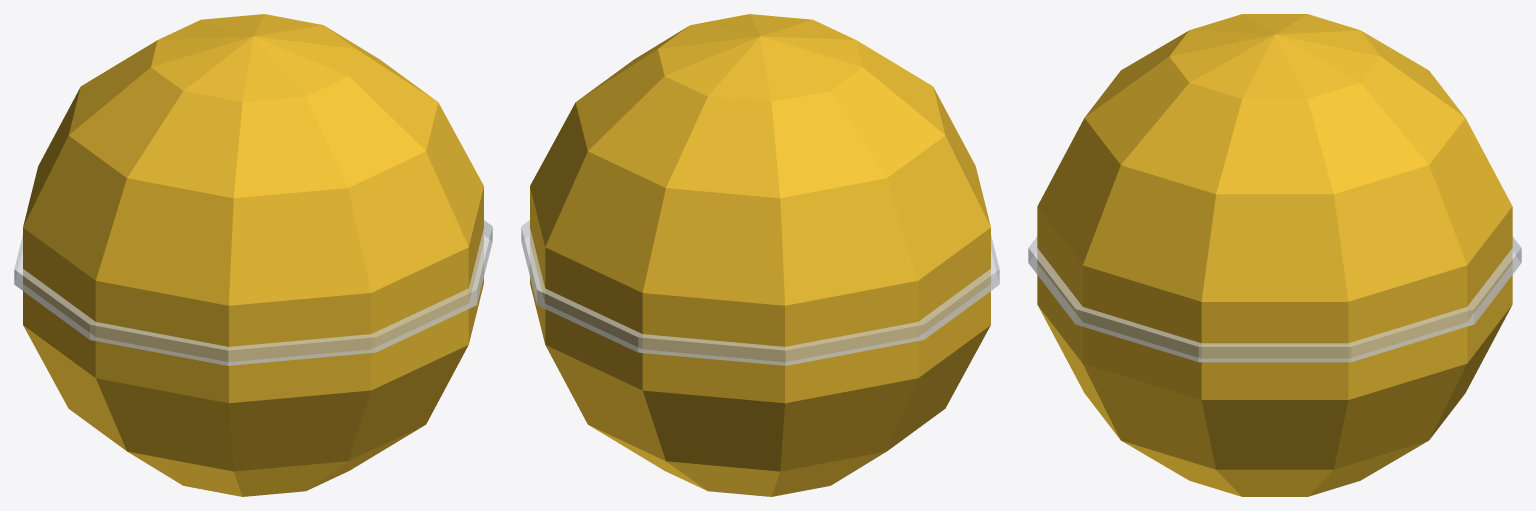
File: paintball_yellow.glb
The picture shows the model from 3 angles, left to right: view 1: azimuth 30°, elevation 25°; view 2: azimuth 150°, elevation 25°; view 3: azimuth 270°, elevation 25°; orthographic projection.
Visible parts, largest first — view 1: paintball_yellow; view 2: paintball_yellow; view 3: paintball_yellow.
Boxes of the visible parts, x1,y1,x2,y2 form: paintball_yellow: (14,14,492,496); paintball_yellow: (521,14,999,496); paintball_yellow: (1028,14,1521,496).
Bounding box in the file's own units: 0.0165 × 0.0172 × 0.0174.
